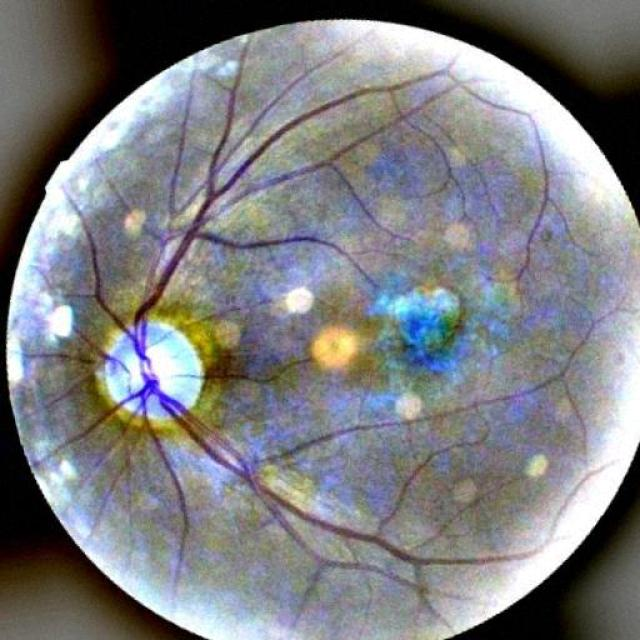Nerves: (80, 50, 499, 565), (264, 139, 374, 219)
Optic Disk: (96, 320, 204, 428)
